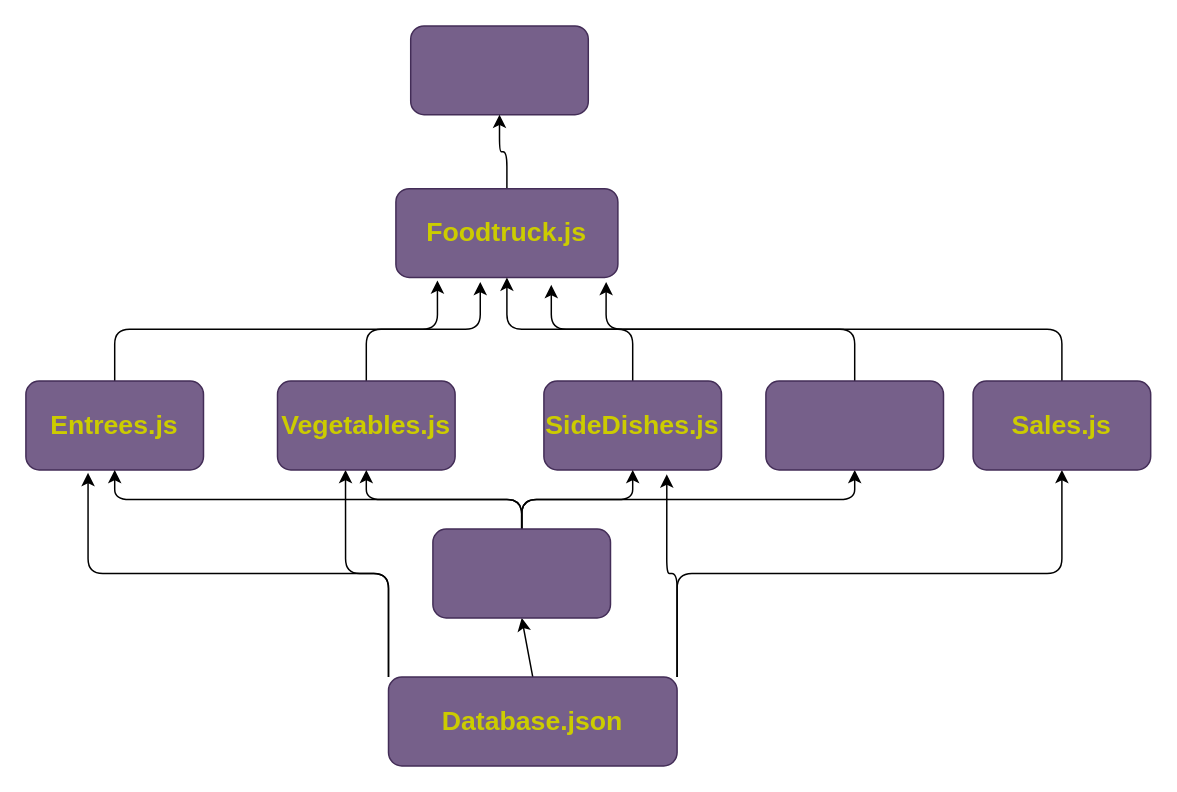
This 1177x792 diagram has some shape labels left out. Here are the shapes that lost their labels. From the top down, the centre of each, then its label:
At (x=498, y=69): "main.js".
At (x=854, y=425): "orderButton.js".
At (x=520, y=573): "transientState.js".
